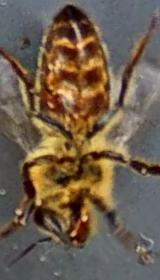varroa_mite: (34, 82, 60, 118)
